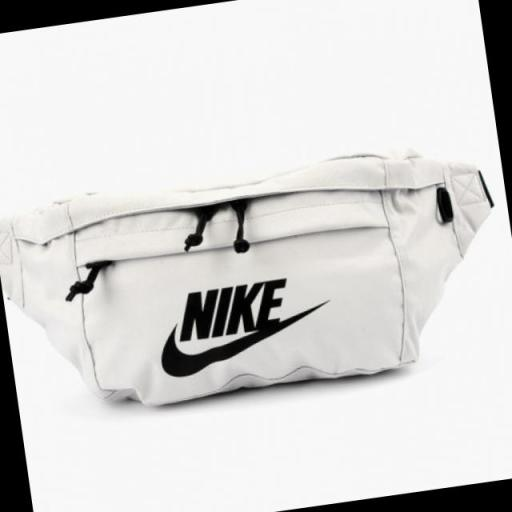Nike: (157, 313, 314, 380), (173, 276, 297, 346)
